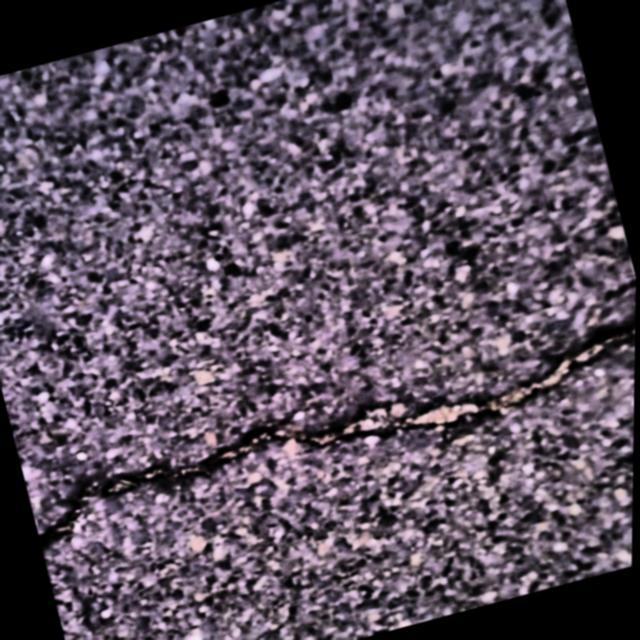Clogged Drains: (23, 291, 637, 589)
